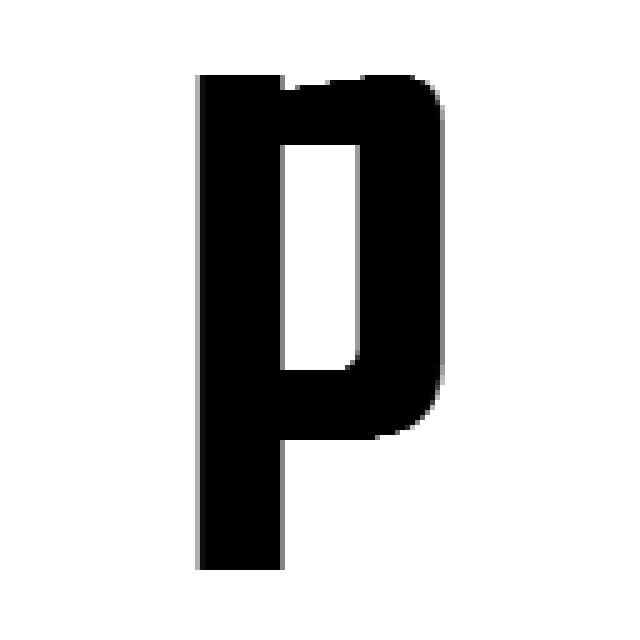P: (195, 75, 445, 575)
